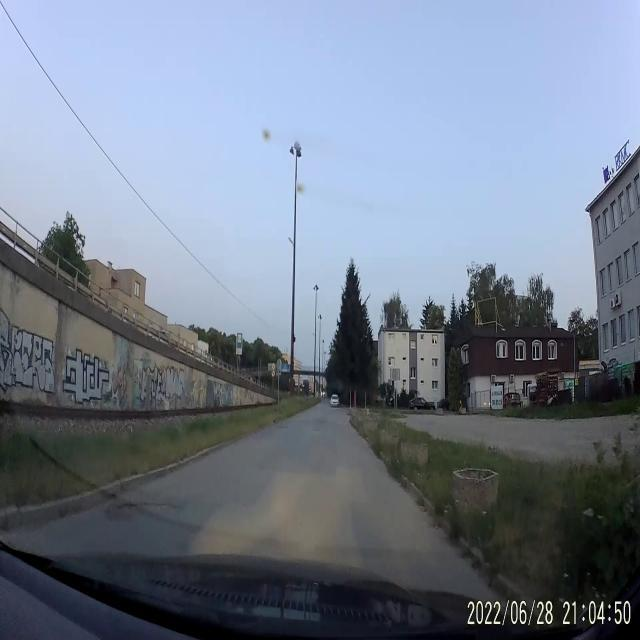Pothole: (104, 498, 172, 524)
